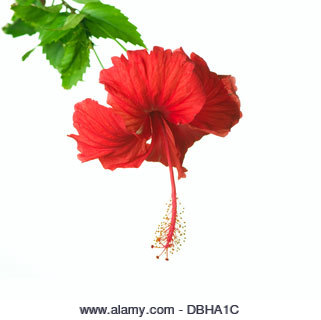Hibiscus: (70, 49, 252, 264)
